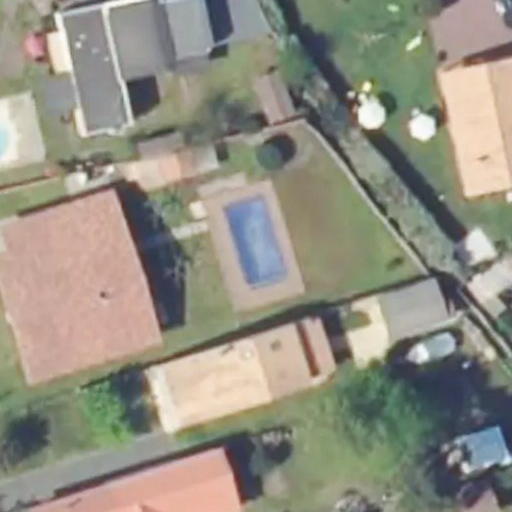pool: (222, 194, 290, 291), (1, 118, 18, 163)
